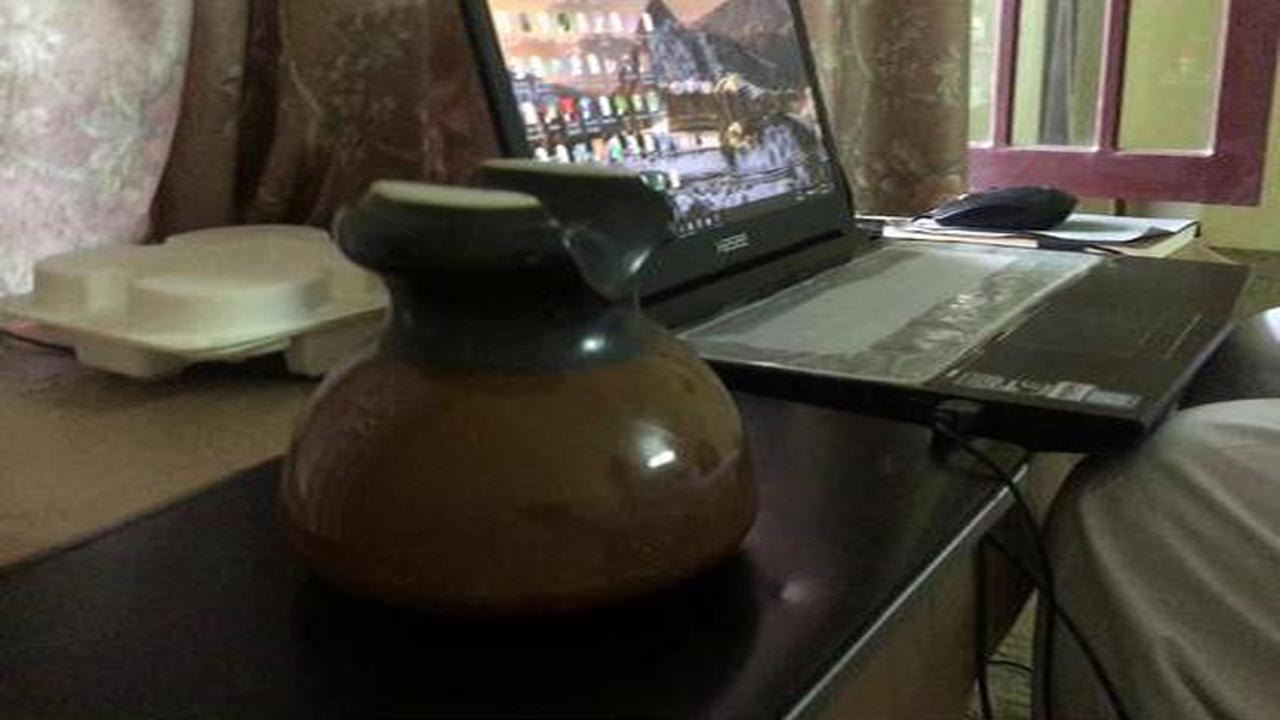insulator_pin: (253, 140, 785, 627)
